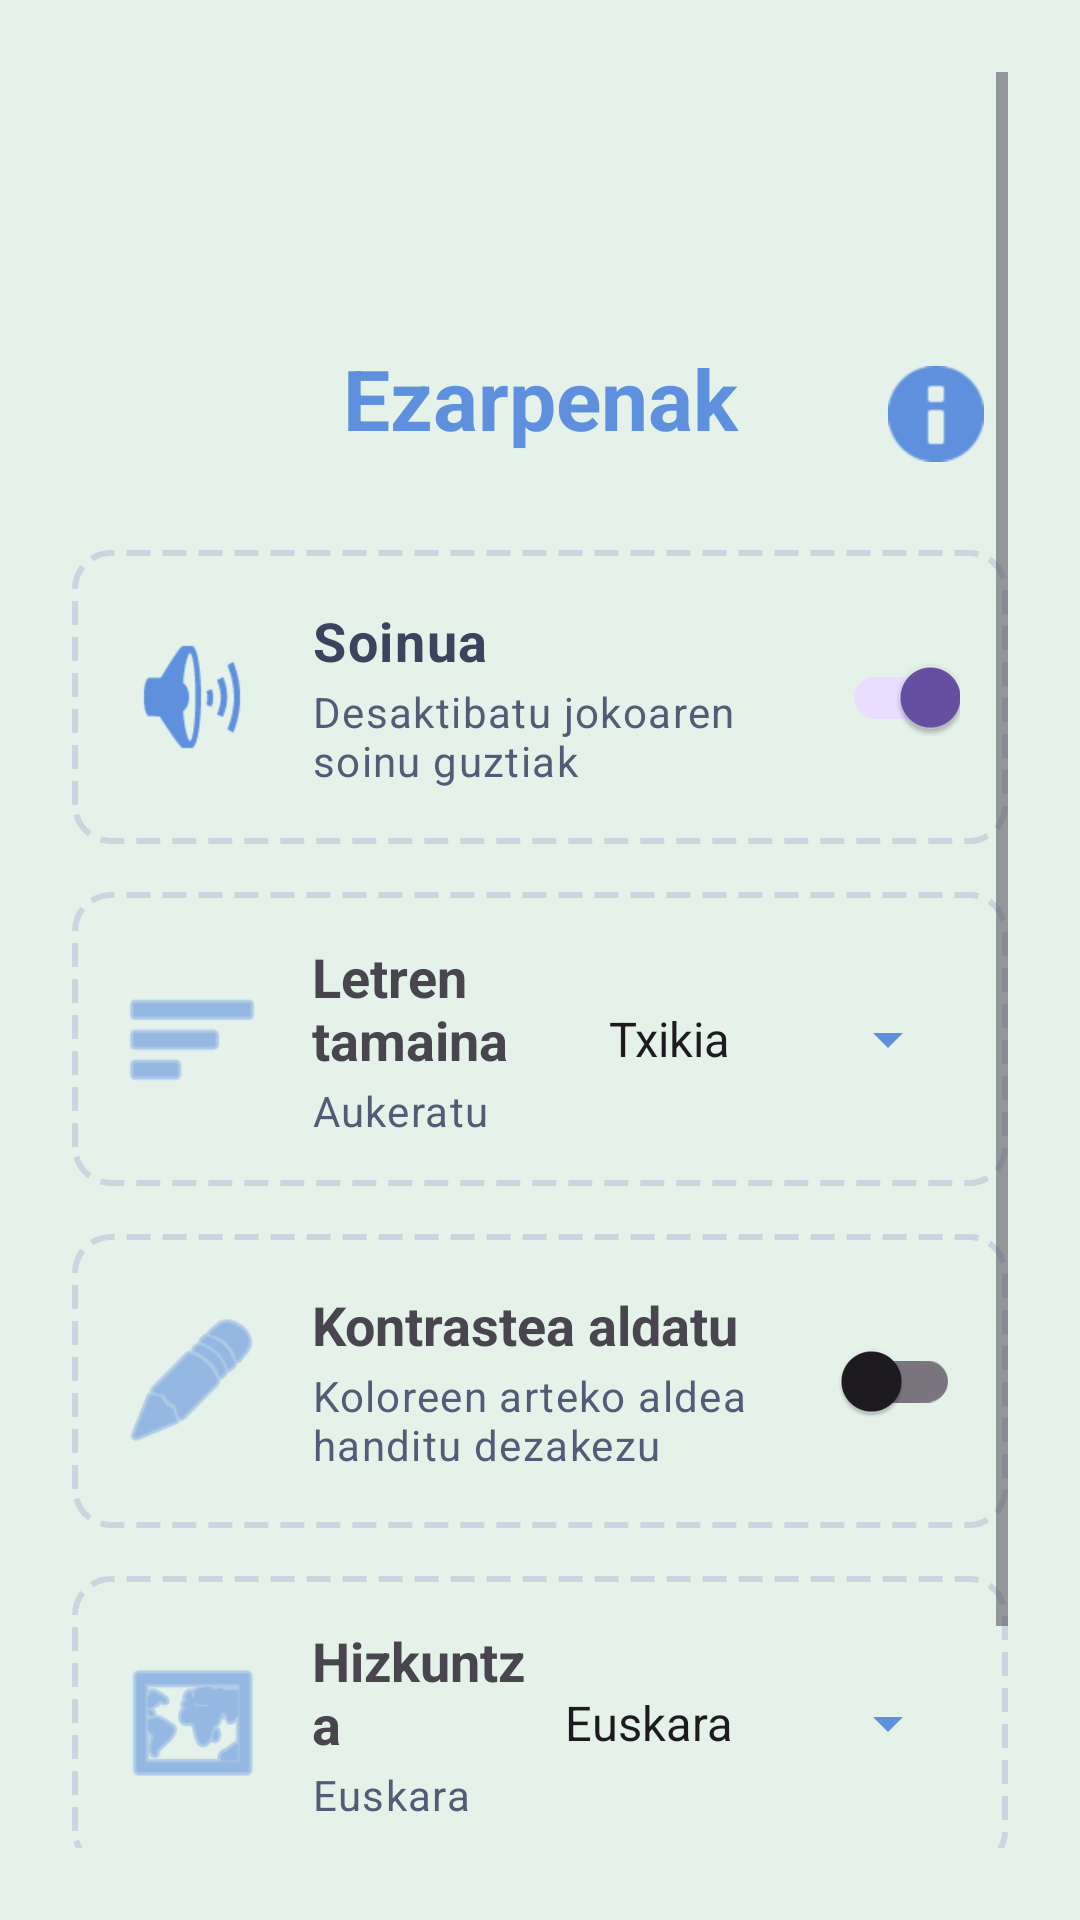

Where to tap for icons on this 1080x1920 app screen, as (x=x, y=y):
Honi buruz: (x=936, y=414)
